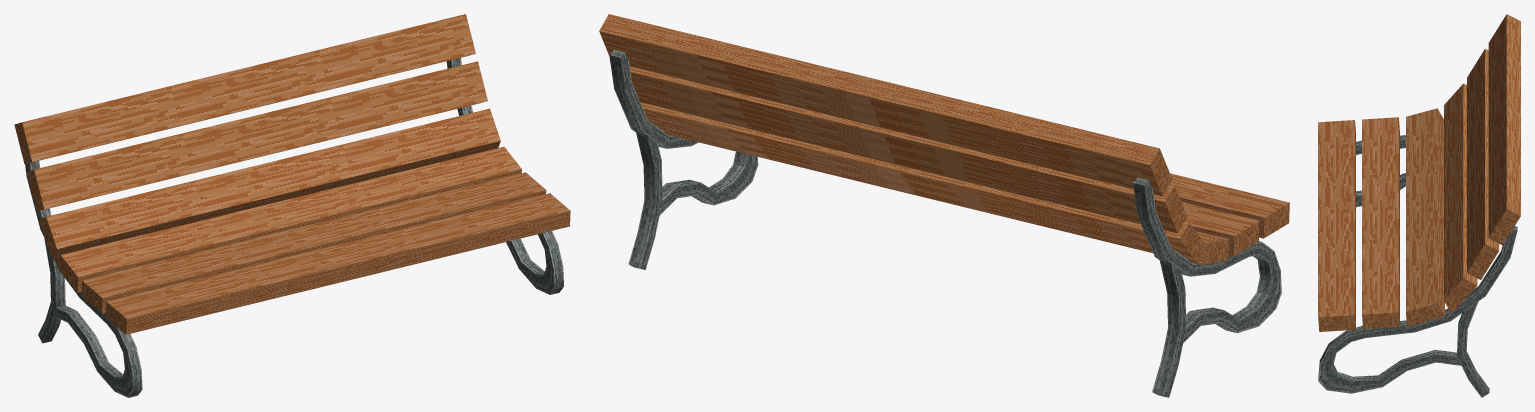
File: bench.fbx
3 views of the same model, side by side, from view 1: azimuth 30°, elevation 25°; view 2: azimuth 150°, elevation 25°; view 3: azimuth 270°, elevation 25° (orthographic). The views are drawn at different scales.
Visible parts, largest first — view 1: ChairA_ms1, ChairA_ms1.002, ChairA_ms1.001; view 2: ChairA_ms1, ChairA_ms1.002, ChairA_ms1.001; view 3: ChairA_ms1, ChairA_ms1.002, ChairA_ms1.001.
Boxes of the visible parts, x1,y1,x2,y2 form: ChairA_ms1: (14,14,570,334); ChairA_ms1.002: (25,58,563,397); ChairA_ms1.001: (38,238,65,343); ChairA_ms1: (599,14,1289,264); ChairA_ms1.002: (609,50,1281,343); ChairA_ms1.001: (628,132,1186,397); ChairA_ms1: (1318,14,1520,331); ChairA_ms1.002: (1318,135,1517,393); ChairA_ms1.001: (1457,301,1489,397).
Size of the model in its own units: 200 by 91.57 by 87.77.
2 materials, 2 textured.
